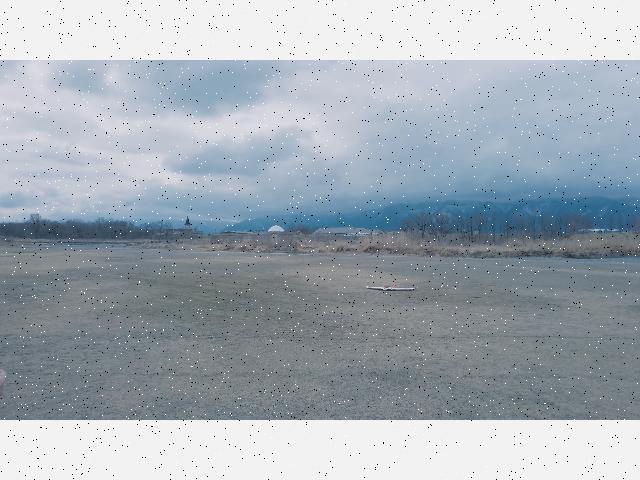Anti-Drone: (362, 281, 420, 295)
